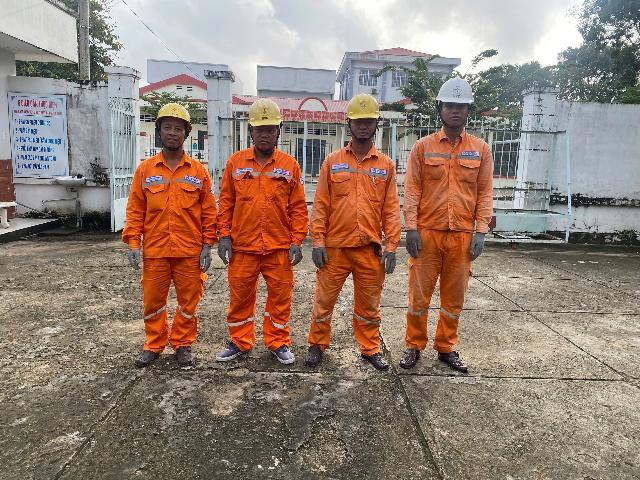gloves: (193, 236, 215, 274), (463, 225, 485, 263), (376, 246, 399, 278), (401, 226, 422, 260), (214, 231, 231, 267), (123, 249, 147, 273), (309, 241, 327, 270), (286, 240, 304, 267)
helmet: (149, 93, 199, 138), (241, 90, 290, 131), (433, 72, 481, 111), (339, 91, 384, 122)
shoes: (430, 337, 464, 376), (353, 349, 393, 374), (302, 338, 332, 368), (268, 337, 296, 368), (218, 333, 246, 362), (170, 343, 198, 366), (397, 340, 420, 367), (134, 340, 157, 365)
